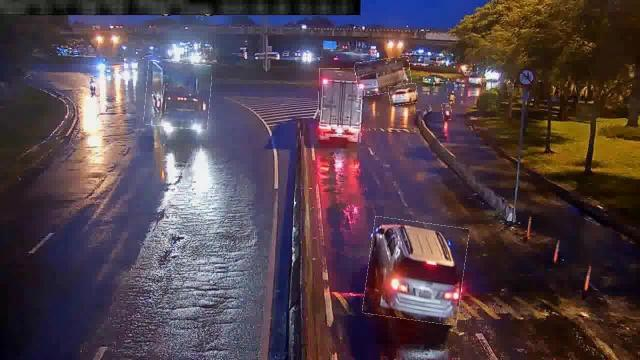Bike: (442, 104, 452, 120)
Car: (366, 220, 466, 322), (389, 84, 418, 105)
Truck: (145, 62, 211, 128), (319, 69, 361, 143), (356, 57, 412, 94)
